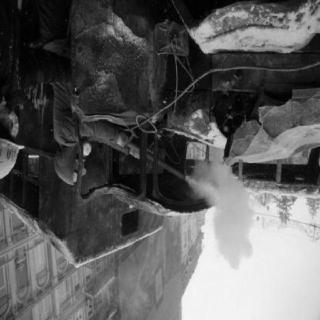Fire: (177, 166, 225, 208)
Smoke: (212, 148, 256, 262)
other: (1, 132, 28, 196), (69, 163, 89, 191)
